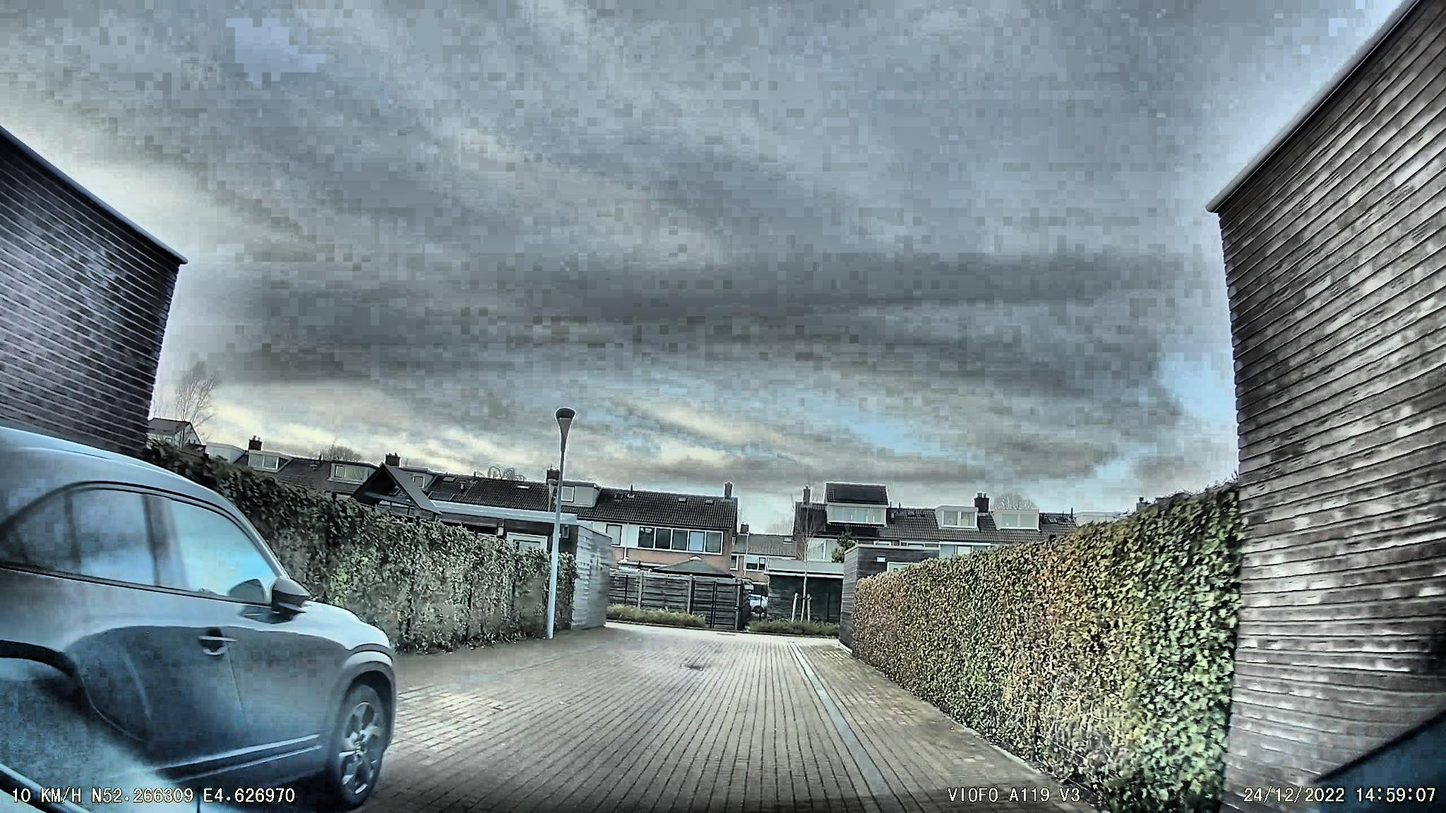Roads: (343, 627, 1101, 813)
